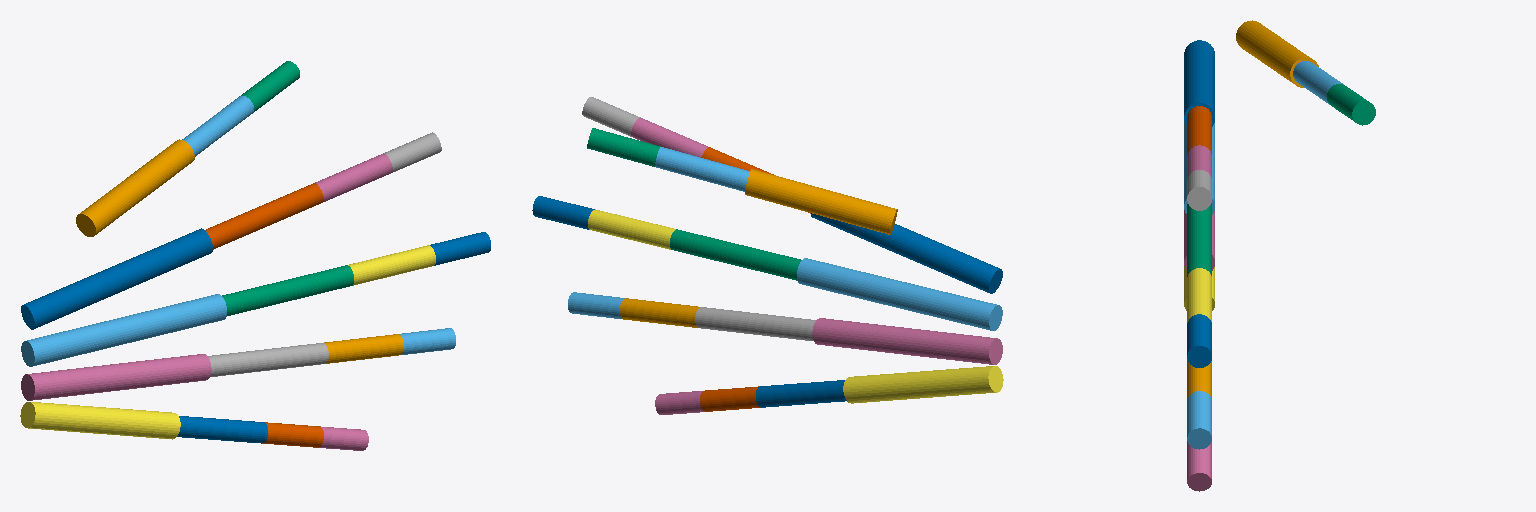
robot.urdf — ax50_right:
<robot name="ax50_right">
  <link name="link_0_0">
    <inertial>
      <origin xyz="0 1.55447630136601e-19 0.0175" rpy="0 0 0" />
      <mass value="0.016584660957464963" />
      <inertia ixx="3.7047370331850545e-06" ixy="9.478111185503441e-25" ixz="-7.582488948402753e-24" iyy="3.7047370331850545e-06" iyz="2.9950831346190885e-23" izz="7.782522108814911e-07" />
    </inertial>
  </link>
  <link name="link_palm">
    <inertial>
      <origin xyz="0 0 0.029" rpy="0 0 0" />
      <mass value="0.05103999624967584" />
      <inertia ixx="1.600954459083169e-05" ixy="-0.0" ixz="-0.0" iyy="2.1113543987632717e-05" iyz="-2.426396463488881e-22" izz="8.50666566133504e-06" />
    </inertial>
  </link>
  <joint name="link_0_0_to_link_palm" type="fixed">
    <parent link="link_0_0" />
    <child link="link_palm" />
    <origin xyz="0 0 0" rpy="0 0 0" />
  </joint>
  <link name="diagnostic_world">
    <inertial>
      <mass value="0.05" />
      <inertia ixx="0.00001" iyy="0.00001" izz="0.00001" ixy="-0.0" ixz="-0.0" iyz="0" />
    <origin xyz="0 0 0" rpy="3.14159265358979 0 3.14159265358979" /></inertial>
  </link>
  <link name="diagnostic_stage_x">
    <inertial>
      <mass value="0.05" />
      <inertia ixx="0.00001" iyy="0.00001" izz="0.00001" ixy="-0.0" ixz="-0.0" iyz="0" />
    <origin xyz="0 0 0" rpy="0 0 0" /></inertial>
  </link>
  <link name="diagnostic_stage_y">
    <inertial>
      <mass value="0.05" />
      <inertia ixx="0.00001" iyy="0.00001" izz="0.00001" ixy="-0.0" ixz="-0.0" iyz="0" />
    <origin xyz="0 0 0" rpy="0 0 0" /></inertial>
  </link>
  <joint name="diagnostic_wrist_x" type="fixed">
    <parent link="diagnostic_world" />
    <child link="diagnostic_stage_x" />
    <origin xyz="0 0 0" rpy="3.14159265358979 0 3.14159265358979" />
    <axis xyz="-1 0 0" />
    <limit lower="-0.25" upper="0.25" effort="100" velocity="0.02" />
  </joint>
  <joint name="diagnostic_wrist_y" type="fixed">
    <parent link="diagnostic_stage_x" />
    <child link="diagnostic_stage_y" />
    <origin xyz="0 0 0" rpy="0 0 0" />
    <axis xyz="0 1 0" />
    <limit lower="-0.25" upper="0.25" effort="100" velocity="0.02" />
  </joint>
  <joint name="diagnostic_wrist_z" type="fixed">
    <parent link="diagnostic_stage_y" />
    <child link="wrist_translation_end" />
    <origin xyz="0 0 0" rpy="0 0 0" />
    <axis xyz="0 0 1" />
    <limit lower="-0.25" upper="0.25" effort="100" velocity="0.02" />
  </joint>
  <link name="wrist_translation_end">
    <inertial>
      <mass value=".02" />
      <inertia ixx="8e-7" iyy="8e-7" izz="8e-7" ixy="-0.0" ixz="-0.0" iyz="0" />
    <origin xyz="0 0 0" rpy="0 0 0" /></inertial>
  </link>
  <link name="wrist_roll_link">
    <inertial>
      <mass value=".02" />
      <inertia ixx="8e-7" iyy="8e-7" izz="8e-7" ixy="-0.0" ixz="-0.0" iyz="0" />
    <origin xyz="0 0 0" rpy="0 0 0" /></inertial>
  </link>
  <link name="wrist_pitch_link">
    <inertial>
      <mass value=".02" />
      <inertia ixx="8e-7" iyy="8e-7" izz="8e-7" ixy="-0.0" ixz="-0.0" iyz="0" />
    <origin xyz="0 0 0" rpy="0 0 0" /></inertial>
  </link>
  <joint name="wrist_roll" type="fixed">
    <parent link="wrist_translation_end" />
    <child link="wrist_roll_link" />
    <origin xyz="0 0 0" rpy="0 0 0" />
    <axis xyz="-1 0 0" />
    <limit lower="-3.141592653589793" upper="3.141592653589793" effort="2" velocity="1" />
  </joint>
  <joint name="wrist_pitch" type="fixed">
    <parent link="wrist_roll_link" />
    <child link="wrist_pitch_link" />
    <origin xyz="0 0 0" rpy="0 0 0" />
    <axis xyz="0 1 0" />
    <limit lower="-3.141592653589793" upper="3.141592653589793" effort="2" velocity="1" />
  </joint>
  <joint name="wrist_yaw" type="fixed">
    <parent link="wrist_pitch_link" />
    <child link="link_0_0" />
    <origin xyz="0 0 0" rpy="0 0 0" />
    <axis xyz="0 0 1" />
    <limit lower="-3.141592653589793" upper="3.141592653589793" effort="2" velocity="1" />
  </joint>
  <link name="link_1_0">
    <inertial>
      <origin xyz="0 0 0.0225" rpy="0 0 0" />
      <mass value="0.0024881392799999996" />
      <inertia ixx="4.298260606199999e-07" iyy="4.298260606199999e-07" izz="1.9905114239999995e-08" ixy="-0.0" ixz="-0.0" iyz="0" />
    </inertial>
    <visual>
      <origin xyz="0 0 0.0225" rpy="0 0 0" />
      <geometry>
        <cylinder length="0.045" radius="0.004" />
      </geometry>
    </visual>
    <collision>
      <origin xyz="0 0 0.0225" rpy="0 0 0" />
      <geometry>
        <cylinder length="0.045" radius="0.004" />
      </geometry>
    </collision>
  </link>
  <joint name="arch_1" type="revolute">
    <parent link="thumb_cmc_base" />
    <child link="thumb_cmc_rollbase" />
    <origin xyz="0 0 0" rpy="2.34877428550396 -1.28125552895656 -2.64763034278056" />
    <axis xyz="-0.707106781186547 -0 -0.707106781186548" /><limit lower="-.16" upper=".72" effort="1" velocity="3" /></joint>
  <link name="link_1_1">
    <inertial>
      <origin xyz="0 0 0.014" rpy="0 0 0" />
      <mass value="0.0009908323532800002" />
      <inertia ixx="6.727091123869015e-08" iyy="6.727091123869015e-08" izz="5.073061648793601e-09" ixy="-0.0" ixz="-0.0" iyz="0" />
    </inertial>
    <visual>
      <origin xyz="0 0 0.014" rpy="0 0 0" />
      <geometry>
        <cylinder length="0.028" radius="0.0032" />
      </geometry>
    </visual>
    <collision>
      <origin xyz="0 0 0.014" rpy="0 0 0" />
      <geometry>
        <cylinder length="0.028" radius="0.0032" />
      </geometry>
    </collision>
  </link>
  <joint name="digit_1_flex_1" type="revolute">
    <parent link="link_1_0" />
    <child link="link_1_1" />
    <origin xyz="0 0 0.045" rpy="0 0 0" />
    <axis xyz="-1 -0 -0" />
    <limit lower="0" upper="1.5" effort="0.8" velocity="2" />
  </joint>
  <link name="link_1_2">
    <inertial>
      <origin xyz="0 0 0.0105" rpy="0 0 0" />
      <mass value="0.0007431242649600001" />
      <inertia ixx="2.9212214855577606e-08" iyy="2.9212214855577606e-08" izz="3.8047962365952e-09" ixy="-0.0" ixz="-0.0" iyz="0" />
    </inertial>
    <visual>
      <origin xyz="0 0 0.0105" rpy="0 0 0" />
      <geometry>
        <cylinder length="0.021" radius="0.0032" />
      </geometry>
    </visual>
    <collision>
      <origin xyz="0 0 0.0105" rpy="0 0 0" />
      <geometry>
        <cylinder length="0.021" radius="0.0032" />
      </geometry>
    </collision>
  </link>
  <joint name="digit_1_flex_2" type="revolute">
    <parent link="link_1_1" />
    <child link="link_1_2" />
    <origin xyz="0 0 0.028" rpy="0 0 0" />
    <axis xyz="-1 -0 -0" />
    <limit lower="0" upper="1.5" effort="0.8" velocity="2" />
  </joint>
  <link name="tip_1" />
  <joint name="tip_1_marker" type="fixed">
    <parent link="link_1_2" />
    <child link="tip_1" />
    <origin xyz="0 0 0.021" rpy="0 0 0" />
  </joint>
  <link name="link_2_0">
    <inertial>
      <origin xyz="0 0 0.031" rpy="0 0 0" />
      <mass value="0.0034281030079999996" />
      <inertia ixx="1.1118480755946664e-06" iyy="1.1118480755946664e-06" izz="2.7424824063999996e-08" ixy="-0.0" ixz="-0.0" iyz="0" />
    </inertial>
    <visual>
      <origin xyz="0 0 0.031" rpy="0 0 0" />
      <geometry>
        <cylinder length="0.062" radius="0.004" />
      </geometry>
    </visual>
    <collision>
      <origin xyz="0 0 0.031" rpy="0 0 0" />
      <geometry>
        <cylinder length="0.062" radius="0.004" />
      </geometry>
    </collision>
  </link>
  <joint name="arch_2" type="revolute">
    <parent link="link_palm" />
    <child link="link_2_0" />
    <origin xyz="0.012 0 -0.006" rpy="3.14159265358979 -1.39626340159546 3.14159265358979" />
  <axis xyz="-0.342020143325669 -0 -0.939692620785908" /><limit lower="-.16" upper=".72" effort="1" velocity="3" /></joint>
  <link name="link_2_1">
    <inertial>
      <origin xyz="0 0 0.0195" rpy="0 0 0" />
      <mass value="0.0013800879206400001" />
      <inertia ixx="1.7845916901795842e-07" iyy="1.7845916901795842e-07" izz="7.066050153676801e-09" ixy="-0.0" ixz="-0.0" iyz="0" />
    </inertial>
    <visual>
      <origin xyz="0 0 0.0195" rpy="0 0 0" />
      <geometry>
        <cylinder length="0.039" radius="0.0032" />
      </geometry>
    </visual>
    <collision>
      <origin xyz="0 0 0.0195" rpy="0 0 0" />
      <geometry>
        <cylinder length="0.039" radius="0.0032" />
      </geometry>
    </collision>
  </link>
  <joint name="digit_2_flex_1" type="revolute">
    <parent link="link_2_0" />
    <child link="link_2_1" />
    <origin xyz="0 0 0.062" rpy="0 0 0" />
    <axis xyz="-1 -0 -0" />
    <limit lower="0" upper="1.5" effort="0.8" velocity="2" />
  </joint>
  <link name="link_2_2">
    <inertial>
      <origin xyz="0 0 0.012" rpy="0 0 0" />
      <mass value="0.00084928487424" />
      <inertia ixx="4.2939843241574404e-08" iyy="4.2939843241574404e-08" izz="4.3483385561088e-09" ixy="-0.0" ixz="-0.0" iyz="0" />
    </inertial>
    <visual>
      <origin xyz="0 0 0.012" rpy="0 0 0" />
      <geometry>
        <cylinder length="0.024" radius="0.0032" />
      </geometry>
    </visual>
    <collision>
      <origin xyz="0 0 0.012" rpy="0 0 0" />
      <geometry>
        <cylinder length="0.024" radius="0.0032" />
      </geometry>
    </collision>
  </link>
  <joint name="digit_2_flex_2" type="revolute">
    <parent link="link_2_1" />
    <child link="link_2_2" />
    <origin xyz="0 0 0.039" rpy="0 0 0" />
    <axis xyz="-1 -0 -0" />
    <limit lower="0" upper="1.5" effort="0.8" velocity="2" />
  </joint>
  <link name="link_2_3">
    <inertial>
      <origin xyz="0 0 0.0085" rpy="0 0 0" />
      <mass value="0.00060157678592" />
      <inertia ixx="1.6028010832861867e-08" iyy="1.6028010832861867e-08" izz="3.0800731439104e-09" ixy="-0.0" ixz="-0.0" iyz="0" />
    </inertial>
    <visual>
      <origin xyz="0 0 0.0085" rpy="0 0 0" />
      <geometry>
        <cylinder length="0.017" radius="0.0032" />
      </geometry>
    </visual>
    <collision>
      <origin xyz="0 0 0.0085" rpy="0 0 0" />
      <geometry>
        <cylinder length="0.017" radius="0.0032" />
      </geometry>
    </collision>
  </link>
  <joint name="digit_2_flex_3" type="revolute">
    <parent link="link_2_2" />
    <child link="link_2_3" />
    <origin xyz="0 0 0.024" rpy="0 0 0" />
    <axis xyz="-1 -0 -0" />
    <limit lower="0" upper="1.5" effort="0.8" velocity="2" />
  </joint>
  <link name="tip_2" />
  <joint name="tip_2_marker" type="fixed">
    <parent link="link_2_3" />
    <child link="tip_2" />
    <origin xyz="0 0 0.017" rpy="0 0 0" />
  </joint>
  <link name="link_3_0">
    <inertial>
      <origin xyz="0 0 0.033" rpy="0 0 0" />
      <mass value="0.0036492709439999997" />
      <inertia ixx="1.3392824364480002e-06" iyy="1.3392824364480002e-06" izz="2.9194167551999997e-08" ixy="-0.0" ixz="-0.0" iyz="0" />
    </inertial>
    <visual>
      <origin xyz="0 0 0.033" rpy="0 0 0" />
      <geometry>
        <cylinder length="0.066" radius="0.004" />
      </geometry>
    </visual>
    <collision>
      <origin xyz="0 0 0.033" rpy="0 0 0" />
      <geometry>
        <cylinder length="0.066" radius="0.004" />
      </geometry>
    </collision>
  </link>
  <joint name="arch_3" type="revolute">
    <parent link="link_palm" />
    <child link="link_3_0" />
    <origin xyz="0.012 0 0.006" rpy="0 -1.5707963267949 0" />
  <axis xyz="-0.309016994374947 -0 -0.951056516295154" /><limit lower="-.16" upper=".72" effort="1" velocity="3" /></joint>
  <link name="link_3_1">
    <inertial>
      <origin xyz="0 0 0.022" rpy="0 0 0" />
      <mass value="0.00155702226944" />
      <inertia ixx="2.5518556981275307e-07" iyy="2.5518556981275307e-07" izz="7.9719540195328e-09" ixy="-0.0" ixz="-0.0" iyz="0" />
    </inertial>
    <visual>
      <origin xyz="0 0 0.022" rpy="0 0 0" />
      <geometry>
        <cylinder length="0.044" radius="0.0032" />
      </geometry>
    </visual>
    <collision>
      <origin xyz="0 0 0.022" rpy="0 0 0" />
      <geometry>
        <cylinder length="0.044" radius="0.0032" />
      </geometry>
    </collision>
  </link>
  <joint name="digit_3_flex_1" type="revolute">
    <parent link="link_3_0" />
    <child link="link_3_1" />
    <origin xyz="0 0 0.066" rpy="0 0 0" />
    <axis xyz="-1 -0 -0" />
    <limit lower="0" upper="1.5" effort="0.8" velocity="2" />
  </joint>
  <link name="link_3_2">
    <inertial>
      <origin xyz="0 0 0.014" rpy="0 0 0" />
      <mass value="0.0009908323532800002" />
      <inertia ixx="6.727091123869015e-08" iyy="6.727091123869015e-08" izz="5.073061648793601e-09" ixy="-0.0" ixz="-0.0" iyz="0" />
    </inertial>
    <visual>
      <origin xyz="0 0 0.014" rpy="0 0 0" />
      <geometry>
        <cylinder length="0.028" radius="0.0032" />
      </geometry>
    </visual>
    <collision>
      <origin xyz="0 0 0.014" rpy="0 0 0" />
      <geometry>
        <cylinder length="0.028" radius="0.0032" />
      </geometry>
    </collision>
  </link>
  <joint name="digit_3_flex_2" type="revolute">
    <parent link="link_3_1" />
    <child link="link_3_2" />
    <origin xyz="0 0 0.044" rpy="0 0 0" />
    <axis xyz="-1 -0 -0" />
    <limit lower="0" upper="1.5" effort="0.8" velocity="2" />
  </joint>
  <link name="link_3_3">
    <inertial>
      <origin xyz="0 0 0.0095" rpy="0 0 0" />
      <mass value="0.00067235052544" />
      <inertia ixx="2.1947762318779737e-08" iyy="2.1947762318779737e-08" izz="3.4424346902528e-09" ixy="-0.0" ixz="-0.0" iyz="0" />
    </inertial>
    <visual>
      <origin xyz="0 0 0.0095" rpy="0 0 0" />
      <geometry>
        <cylinder length="0.019" radius="0.0032" />
      </geometry>
    </visual>
    <collision>
      <origin xyz="0 0 0.0095" rpy="0 0 0" />
      <geometry>
        <cylinder length="0.019" radius="0.0032" />
      </geometry>
    </collision>
  </link>
  <joint name="digit_3_flex_3" type="revolute">
    <parent link="link_3_2" />
    <child link="link_3_3" />
    <origin xyz="0 0 0.028" rpy="0 0 0" />
    <axis xyz="-1 -0 -0" />
    <limit lower="0" upper="1.5" effort="0.8" velocity="2" />
  </joint>
  <link name="tip_3" />
  <joint name="tip_3_marker" type="fixed">
    <parent link="link_3_3" />
    <child link="tip_3" />
    <origin xyz="0 0 0.019" rpy="0 0 0" />
  </joint>
  <link name="link_4_0">
    <inertial>
      <origin xyz="0 0 0.0305" rpy="0 0 0" />
      <mass value="0.0033728110239999998" />
      <inertia ixx="1.0593437291213333e-06" iyy="1.0593437291213333e-06" izz="2.6982488191999995e-08" ixy="-0.0" ixz="-0.0" iyz="0" />
    </inertial>
    <visual>
      <origin xyz="0 0 0.0305" rpy="0 0 0" />
      <geometry>
        <cylinder length="0.061" radius="0.004" />
      </geometry>
    </visual>
    <collision>
      <origin xyz="0 0 0.0305" rpy="0 0 0" />
      <geometry>
        <cylinder length="0.061" radius="0.004" />
      </geometry>
    </collision>
  </link>
  <joint name="arch_4" type="revolute">
    <parent link="link_palm" />
    <child link="link_4_0" />
    <origin xyz="0.012 0 0.017" rpy="0 -1.44862327915529 0" />
    <axis xyz="-0.3583679495453 -0 -0.933580426497202" /><limit lower="-.16" upper=".72" effort="1" velocity="3" /></joint>
  <link name="link_4_1">
    <inertial>
      <origin xyz="0 0 0.0205" rpy="0 0 0" />
      <mass value="0.0014508616601600001" />
      <inertia ixx="2.069557434107563e-07" iyy="2.069557434107563e-07" izz="7.428411700019201e-09" ixy="-0.0" ixz="-0.0" iyz="0" />
    </inertial>
    <visual>
      <origin xyz="0 0 0.0205" rpy="0 0 0" />
      <geometry>
        <cylinder length="0.041" radius="0.0032" />
      </geometry>
    </visual>
    <collision>
      <origin xyz="0 0 0.0205" rpy="0 0 0" />
      <geometry>
        <cylinder length="0.041" radius="0.0032" />
      </geometry>
    </collision>
  </link>
  <joint name="digit_4_flex_1" type="revolute">
    <parent link="link_4_0" />
    <child link="link_4_1" />
    <origin xyz="0 0 0.061" rpy="0 0 0" />
    <axis xyz="-1 -0 -0" />
    <limit lower="0" upper="1.5" effort="0.8" velocity="2" />
  </joint>
  <link name="link_4_2">
    <inertial>
      <origin xyz="0 0 0.013" rpy="0 0 0" />
      <mass value="0.00092005861376" />
      <inertia ixx="5.418531862637226e-08" iyy="5.418531862637226e-08" izz="4.7107001024512e-09" ixy="-0.0" ixz="-0.0" iyz="0" />
    </inertial>
    <visual>
      <origin xyz="0 0 0.013" rpy="0 0 0" />
      <geometry>
        <cylinder length="0.026" radius="0.0032" />
      </geometry>
    </visual>
    <collision>
      <origin xyz="0 0 0.013" rpy="0 0 0" />
      <geometry>
        <cylinder length="0.026" radius="0.0032" />
      </geometry>
    </collision>
  </link>
  <joint name="digit_4_flex_2" type="revolute">
    <parent link="link_4_1" />
    <child link="link_4_2" />
    <origin xyz="0 0 0.041" rpy="0 0 0" />
    <axis xyz="-1 -0 -0" />
    <limit lower="0" upper="1.5" effort="0.8" velocity="2" />
  </joint>
  <link name="link_4_3">
    <inertial>
      <origin xyz="0 0 0.009" rpy="0 0 0" />
      <mass value="0.00063696365568" />
      <inertia ixx="1.8828645661900803e-08" iyy="1.8828645661900803e-08" izz="3.2612539170816003e-09" ixy="-0.0" ixz="-0.0" iyz="0" />
    </inertial>
    <visual>
      <origin xyz="0 0 0.009" rpy="0 0 0" />
      <geometry>
        <cylinder length="0.018" radius="0.0032" />
      </geometry>
    </visual>
    <collision>
      <origin xyz="0 0 0.009" rpy="0 0 0" />
      <geometry>
        <cylinder length="0.018" radius="0.0032" />
      </geometry>
    </collision>
  </link>
  <joint name="digit_4_flex_3" type="revolute">
    <parent link="link_4_2" />
    <child link="link_4_3" />
    <origin xyz="0 0 0.026" rpy="0 0 0" />
    <axis xyz="-1 -0 -0" />
    <limit lower="0" upper="1.5" effort="0.8" velocity="2" />
  </joint>
  <link name="tip_4" />
  <joint name="tip_4_marker" type="fixed">
    <parent link="link_4_3" />
    <child link="tip_4" />
    <origin xyz="0 0 0.018" rpy="0 0 0" />
  </joint>
  <link name="link_5_0">
    <inertial>
      <origin xyz="0 0 0.026" rpy="0 0 0" />
      <mass value="0.0028751831679999997" />
      <inertia ixx="6.593753398613331e-07" iyy="6.593753398613331e-07" izz="2.3001465343999996e-08" ixy="-0.0" ixz="-0.0" iyz="0" />
    </inertial>
    <visual>
      <origin xyz="0 0 0.026" rpy="0 0 0" />
      <geometry>
        <cylinder length="0.052" radius="0.004" />
      </geometry>
    </visual>
    <collision>
      <origin xyz="0 0 0.026" rpy="0 0 0" />
      <geometry>
        <cylinder length="0.052" radius="0.004" />
      </geometry>
    </collision>
  </link>
  <joint name="arch_5" type="revolute">
    <parent link="link_palm" />
    <child link="link_5_0" />
    <origin xyz="0.012 0 0.026" rpy="0 -1.27409035395586 0" />
    <axis xyz="-0.438371146789078 -0 -0.898794046299167" /><limit lower="-.16" upper=".72" effort="1" velocity="3" /></joint>
  <link name="link_5_1">
    <inertial>
      <origin xyz="0 0 0.016" rpy="0 0 0" />
      <mass value="0.00113237983232" />
      <inertia ixx="9.952863806204587e-08" iyy="9.952863806204587e-08" izz="5.7977847414784e-09" ixy="-0.0" ixz="-0.0" iyz="0" />
    </inertial>
    <visual>
      <origin xyz="0 0 0.016" rpy="0 0 0" />
      <geometry>
        <cylinder length="0.032" radius="0.0032" />
      </geometry>
    </visual>
    <collision>
      <origin xyz="0 0 0.016" rpy="0 0 0" />
      <geometry>
        <cylinder length="0.032" radius="0.0032" />
      </geometry>
    </collision>
  </link>
  <joint name="digit_5_flex_1" type="revolute">
    <parent link="link_5_0" />
    <child link="link_5_1" />
    <origin xyz="0 0 0.052" rpy="0 0 0" />
    <axis xyz="-1 -0 -0" />
    <limit lower="0" upper="1.5" effort="0.8" velocity="2" />
  </joint>
  <link name="link_5_2">
    <inertial>
      <origin xyz="0 0 0.01" rpy="0 0 0" />
      <mass value="0.0007077373952000001" />
      <inertia ixx="2.540305423837867e-08" iyy="2.540305423837867e-08" izz="3.6236154634240004e-09" ixy="-0.0" ixz="-0.0" iyz="0" />
    </inertial>
    <visual>
      <origin xyz="0 0 0.01" rpy="0 0 0" />
      <geometry>
        <cylinder length="0.02" radius="0.0032" />
      </geometry>
    </visual>
    <collision>
      <origin xyz="0 0 0.01" rpy="0 0 0" />
      <geometry>
        <cylinder length="0.02" radius="0.0032" />
      </geometry>
    </collision>
  </link>
  <joint name="digit_5_flex_2" type="revolute">
    <parent link="link_5_1" />
    <child link="link_5_2" />
    <origin xyz="0 0 0.032" rpy="0 0 0" />
    <axis xyz="-1 -0 -0" />
    <limit lower="0" upper="1.5" effort="0.8" velocity="2" />
  </joint>
  <link name="link_5_3">
    <inertial>
      <origin xyz="0 0 0.008" rpy="0 0 0" />
      <mass value="0.00056618991616" />
      <inertia ixx="1.352816439678293e-08" iyy="1.352816439678293e-08" izz="2.8988923707392e-09" ixy="-0.0" ixz="-0.0" iyz="0" />
    </inertial>
    <visual>
      <origin xyz="0 0 0.008" rpy="0 0 0" />
      <geometry>
        <cylinder length="0.016" radius="0.0032" />
      </geometry>
    </visual>
    <collision>
      <origin xyz="0 0 0.008" rpy="0 0 0" />
      <geometry>
        <cylinder length="0.016" radius="0.0032" />
      </geometry>
    </collision>
  </link>
  <joint name="digit_5_flex_3" type="revolute">
    <parent link="link_5_2" />
    <child link="link_5_3" />
    <origin xyz="0 0 0.02" rpy="0 0 0" />
    <axis xyz="-1 -0 -0" />
    <limit lower="0" upper="1.5" effort="0.8" velocity="2" />
  </joint>
  <link name="tip_5" />
  <joint name="tip_5_marker" type="fixed">
    <parent link="link_5_3" />
    <child link="tip_5" />
    <origin xyz="0 0 0.016" rpy="0 0 0" />
  </joint>
<link name="thumb_cmc_base"><inertial><mass value=".003" /><inertia ixx=".000001" iyy=".000001" izz=".000001" ixy="-0.0" ixz="-0.0" iyz="0" /><origin xyz="0 0 0" rpy="0 0 0" /></inertial></link><joint name="thumb_sweep" type="revolute"><parent link="link_palm" /><child link="thumb_cmc_base" /><origin xyz="-0.0154375723601925 0.013100798997232 -0.0243386624938983" rpy="0 0 0" /><axis xyz="-0 0.984807753011872 0.173648177666648" /><limit lower="-.69" upper=".95" effort="1" velocity="2" /></joint><link name="thenar"><inertial><mass value=".035" /><inertia ixx=".000003" iyy=".000005" izz=".000003" ixy="-0.0" ixz="-0.0" iyz="0" /><origin xyz="0 0 0" rpy="0 0 0" /></inertial></link><joint name="tissue" type="prismatic"><parent link="diagnostic_world" /><child link="thenar" /><origin xyz="-0.000499106477946043 0.006 0.0165008958429098" rpy="3.14159265358979 0 3.14159265358979" /><axis xyz="0 1 0" /><limit lower="-.009" upper=".017" effort="80" velocity=".3" /></joint><link name="thumb_cmc_rollbase"><inertial><mass value=".002" /><inertia ixx=".000001" iyy=".000001" izz=".000001" ixy="-0.0" ixz="-0.0" iyz="0" /><origin xyz="0 0 0" rpy="0 0 0" /></inertial></link><joint name="thumb_axial" type="revolute"><parent link="thumb_cmc_rollbase" /><child link="link_1_0" /><axis xyz="-0 -0 -1" /><limit lower="-1.5" upper="1.5" effort=".8" velocity="2" /><origin xyz="0 0 0" rpy="0 0 0" /></joint></robot>

--- Render facts (derived) ---
3 views of the same robot in one strip: view 1: azimuth 30°, elevation 25°; view 2: azimuth 150°, elevation 25°; view 3: azimuth 270°, elevation 25° (orthographic).
Robot: ax50_right — 35 links, 34 joints (21 revolute, 1 prismatic, 12 fixed); root link diagnostic_world; default pose: every joint at zero.
Links seen in each view (by area): view 1: link_3_0, link_2_0, link_4_0, link_5_0, link_1_0, link_3_1, link_2_1, link_4_1, link_5_1, link_3_2, link_4_2, link_2_2 (+7 smaller); view 2: link_3_0, link_4_0, link_5_0, link_1_0, link_2_0, link_3_1, link_4_1, link_1_1, link_5_1, link_3_2, link_4_2, link_1_2 (+7 smaller); view 3: link_1_0, link_2_0, link_3_1, link_4_3, link_3_3, link_1_2, link_3_2, link_5_3, link_1_1, link_2_1, link_2_3, link_4_2 (+2 smaller).
Boxes of the visible links, x1,y1,x2,y2 form: link_3_0: (21,294,226,366); link_2_0: (21,228,212,329); link_4_0: (21,354,211,400); link_5_0: (20,402,180,439); link_1_0: (76,139,194,236); link_3_1: (222,265,353,315); link_2_1: (205,183,323,249); link_4_1: (208,343,328,376); link_5_1: (177,416,267,443); link_3_2: (348,245,435,285); link_4_2: (324,334,403,363); link_2_2: (315,153,392,201); link_3_0: (797,258,1002,330); link_4_0: (812,318,1002,364); link_5_0: (843,366,1003,403); link_1_0: (745,169,897,234); link_2_0: (811,213,1002,293); link_3_1: (670,229,801,280); link_4_1: (695,307,815,340); link_1_1: (655,147,749,191); link_5_1: (756,380,846,407); link_3_2: (588,209,675,249); link_4_2: (620,298,699,327); link_1_2: (587,128,660,166); link_1_0: (1236,20,1318,87); link_2_0: (1184,40,1214,126); link_3_1: (1187,203,1211,276); link_4_3: (1187,391,1211,449); link_3_3: (1187,314,1211,367); link_1_2: (1327,84,1375,125); link_3_2: (1187,268,1211,322); link_5_3: (1187,441,1211,491); link_1_1: (1293,61,1343,104); link_2_1: (1187,106,1211,154); link_2_3: (1187,170,1211,210); link_4_2: (1187,359,1211,398).
Bounding box of the posed robot: 0.1582 × 0.0491 × 0.1105 m (x, y, z).
Geometry: primitives only (box / cylinder / sphere), no mesh files.
